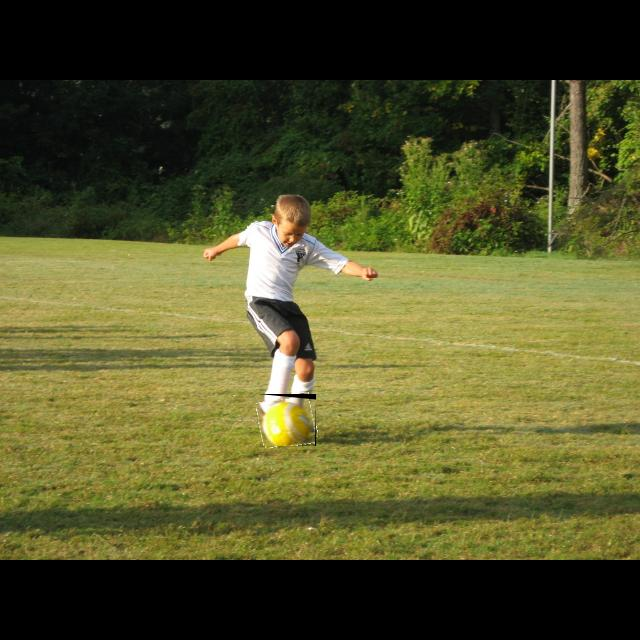Football: (258, 394, 316, 446)
